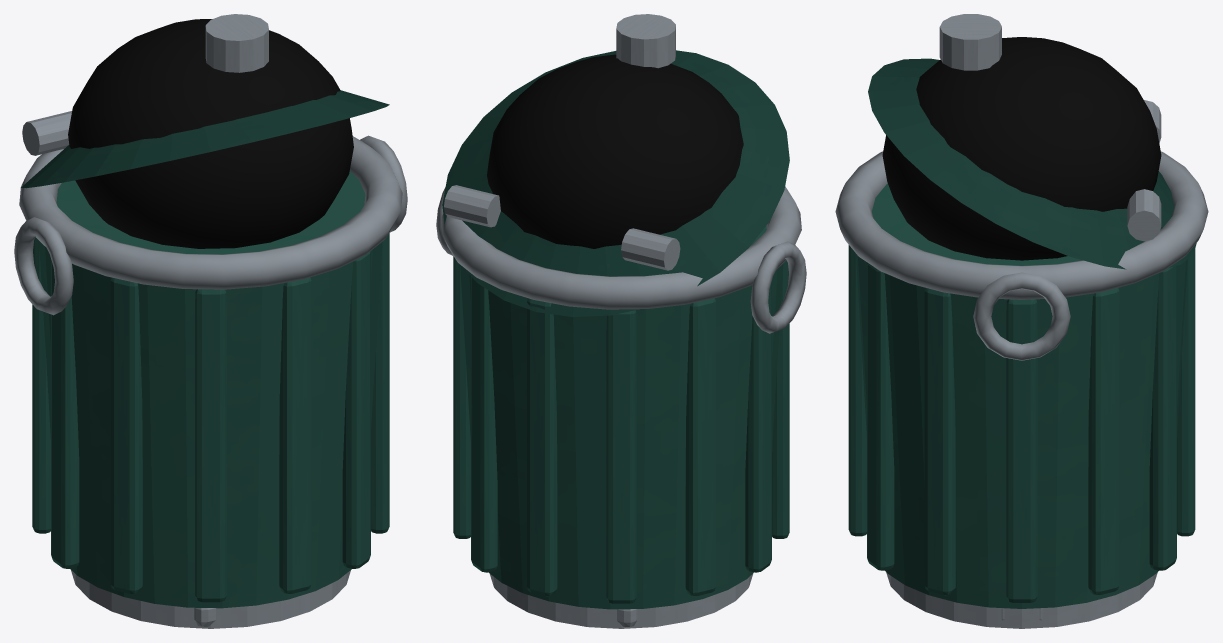
The model's file is prop_trash_bin.glb.
The picture shows the model from 3 angles, left to right: view 1: azimuth 30°, elevation 25°; view 2: azimuth 150°, elevation 25°; view 3: azimuth 270°, elevation 25°; orthographic projection. The views are drawn at different scales.
Visible parts, largest first — view 1: prop_trash_bin_drum, prop_trash_bin_liner, prop_trash_bin_rim, prop_trash_bin_slat_9, prop_trash_bin_slat_8, prop_trash_bin_slat_7, prop_trash_bin_lid, prop_trash_bin_slat_10, prop_trash_bin_slat_6, prop_trash_bin_base_ring, prop_trash_bin_slat_11, prop_trash_bin_slat_5 (+4 smaller); view 2: prop_trash_bin_drum, prop_trash_bin_liner, prop_trash_bin_lid, prop_trash_bin_rim, prop_trash_bin_slat_4, prop_trash_bin_slat_5, prop_trash_bin_slat_3, prop_trash_bin_slat_2, prop_trash_bin_slat_6, prop_trash_bin_base_ring, prop_trash_bin_slat_1, prop_trash_bin_slat_7 (+4 smaller); view 3: prop_trash_bin_drum, prop_trash_bin_liner, prop_trash_bin_rim, prop_trash_bin_lid, prop_trash_bin_slat_1, prop_trash_bin_slat_11, prop_trash_bin_slat_0, prop_trash_bin_slat_10, prop_trash_bin_slat_2, prop_trash_bin_base_ring, prop_trash_bin_slat_9, prop_trash_bin_slat_3 (+3 smaller).
Part boxes in pixels (left/top/right/bottom): prop_trash_bin_drum: left=39, top=171, right=382, bottom=608; prop_trash_bin_liner: left=68, top=19, right=353, bottom=248; prop_trash_bin_rim: left=19, top=136, right=402, bottom=289; prop_trash_bin_slat_9: left=279, top=277, right=311, bottom=593; prop_trash_bin_slat_8: left=195, top=289, right=226, bottom=602; prop_trash_bin_slat_7: left=110, top=277, right=142, bottom=593; prop_trash_bin_lid: left=21, top=90, right=389, bottom=188; prop_trash_bin_slat_10: left=342, top=251, right=370, bottom=568; prop_trash_bin_slat_6: left=51, top=259, right=79, bottom=568; prop_trash_bin_base_ring: left=70, top=569, right=350, bottom=628; prop_trash_bin_slat_11: left=371, top=233, right=389, bottom=533; prop_trash_bin_slat_5: left=32, top=237, right=50, bottom=533; prop_trash_bin_drum: left=460, top=225, right=783, bottom=609; prop_trash_bin_liner: left=487, top=54, right=743, bottom=248; prop_trash_bin_lid: left=442, top=50, right=789, bottom=316; prop_trash_bin_rim: left=441, top=186, right=801, bottom=309; prop_trash_bin_slat_4: left=606, top=310, right=636, bottom=603; prop_trash_bin_slat_5: left=685, top=298, right=715, bottom=596; prop_trash_bin_slat_3: left=527, top=298, right=557, bottom=596; prop_trash_bin_slat_2: left=471, top=276, right=497, bottom=572; prop_trash_bin_slat_6: left=745, top=281, right=771, bottom=572; prop_trash_bin_base_ring: left=490, top=573, right=753, bottom=628; prop_trash_bin_slat_1: left=453, top=256, right=470, bottom=538; prop_trash_bin_slat_7: left=772, top=260, right=789, bottom=538; prop_trash_bin_drum: left=856, top=183, right=1187, bottom=608; prop_trash_bin_liner: left=882, top=37, right=1161, bottom=260; prop_trash_bin_rim: left=835, top=151, right=1208, bottom=299; prop_trash_bin_lid: left=868, top=58, right=1196, bottom=269; prop_trash_bin_slat_1: left=1088, top=288, right=1119, bottom=595; prop_trash_bin_slat_11: left=924, top=288, right=955, bottom=595; prop_trash_bin_slat_0: left=1006, top=299, right=1037, bottom=602; prop_trash_bin_slat_10: left=867, top=262, right=894, bottom=570; prop_trash_bin_slat_2: left=1149, top=265, right=1176, bottom=570; prop_trash_bin_base_ring: left=886, top=572, right=1157, bottom=628; prop_trash_bin_slat_9: left=848, top=245, right=866, bottom=536; prop_trash_bin_slat_3: left=1177, top=249, right=1195, bottom=536.
Size of the model in its own units: 0.6877 by 1.06 by 0.658.
4 materials, 4 textured.
